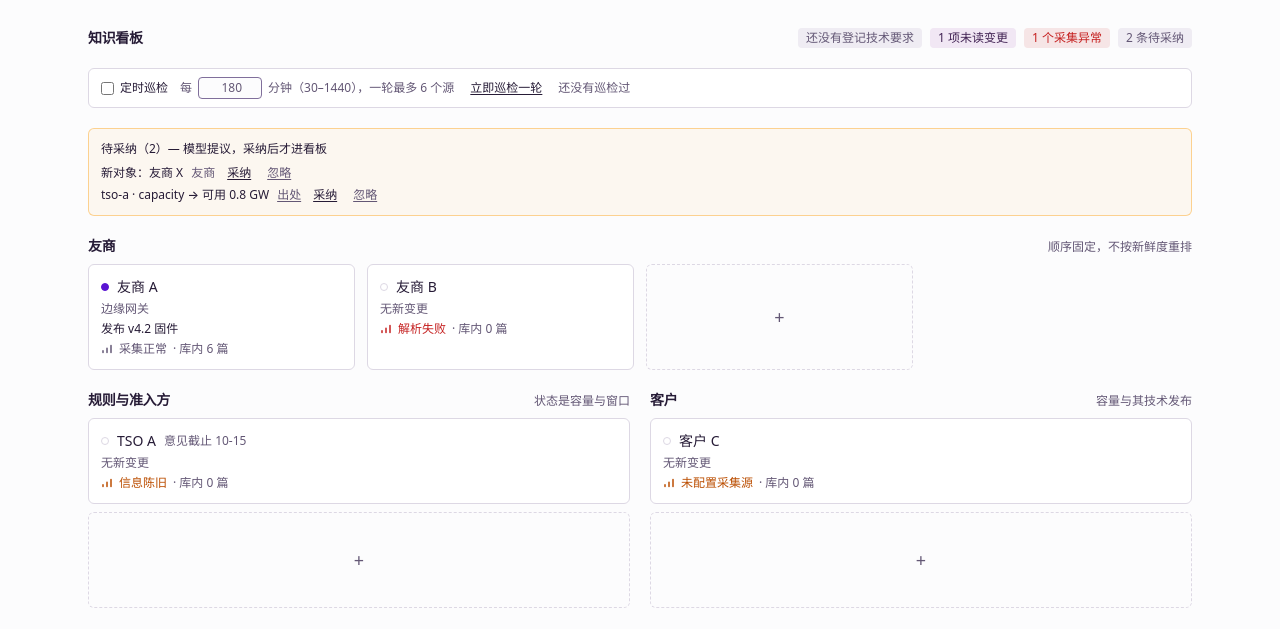
Test: KnowledgeDashboard › ⑤d 消息列表默认 5 条，「查看全部」展开其余且可收回
The image size is (1280, 629).
Check: the text "友商 A" is shown, box 117,277 -> 158,297
Click the button "友商 A 边缘网关 发布 v4.2 固件 采集正常 · 库内 6 篇" at (222, 317), box 101,277 -> 342,357
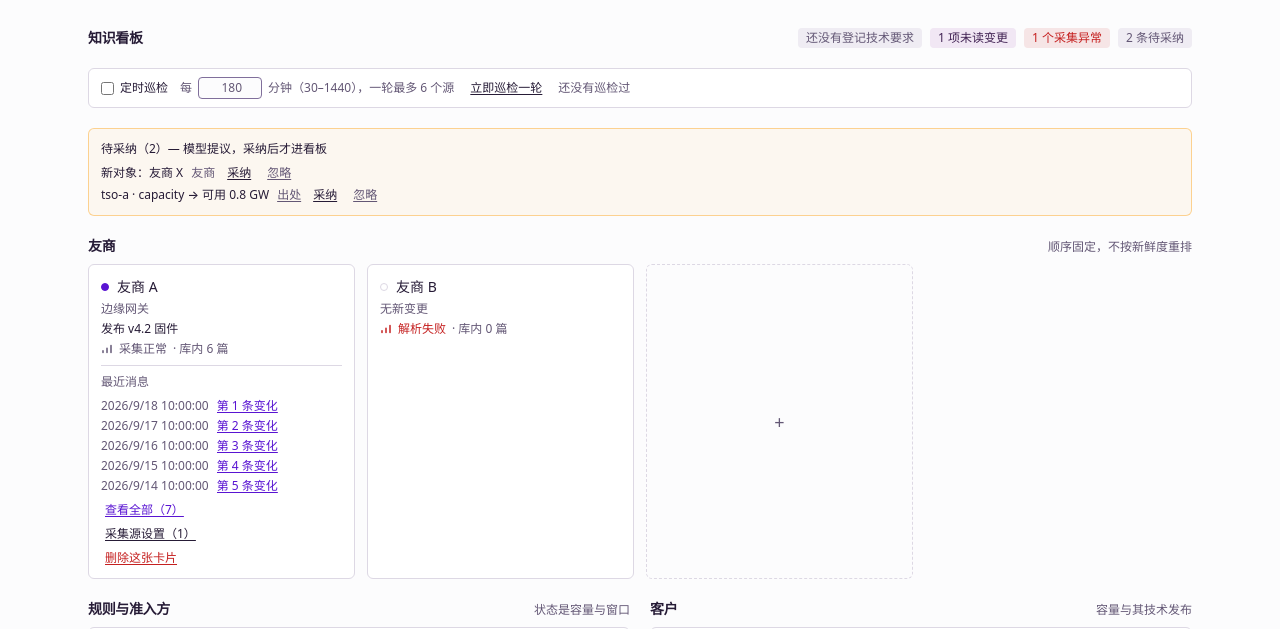
Check: the link "第 6 条变化" is not shown
Check: the link "第 5 条变化" is shown, box 217,477 -> 278,494
Click the button "查看全部（7）" at (144, 510), box 101,502 -> 188,518
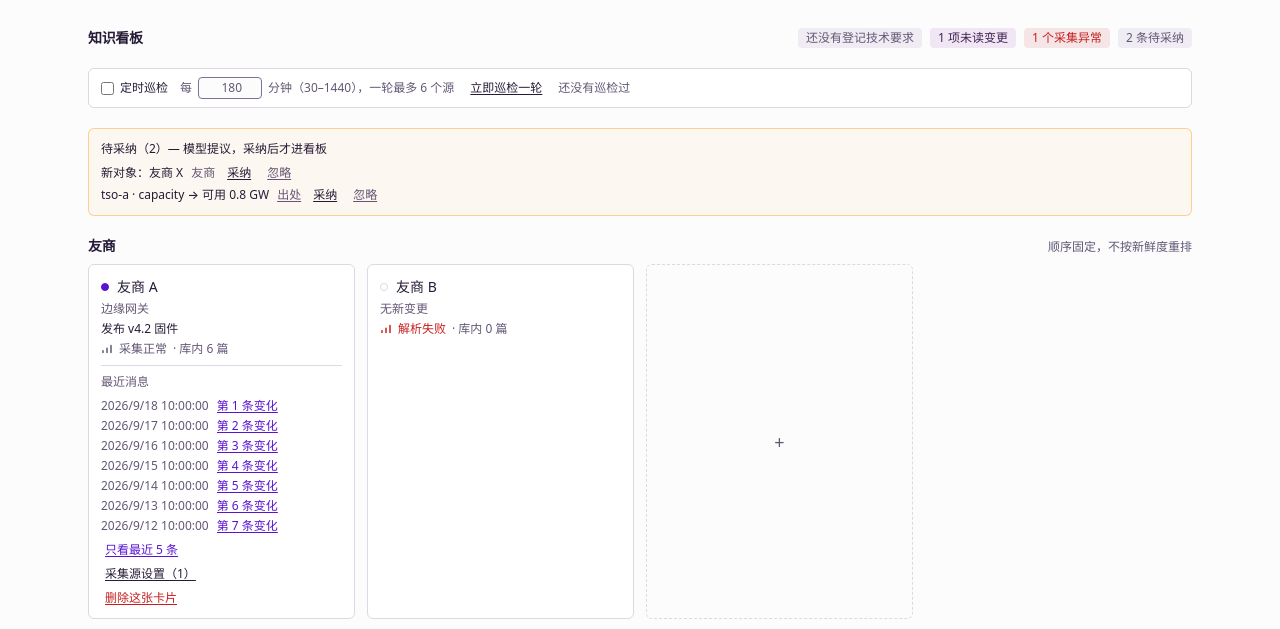
Check: the link "第 7 条变化" is shown, box 217,517 -> 278,534
Check: the button "只看最近 5 条" is expanded
Click the button "只看最近 5 条" at (142, 550), box 101,542 -> 182,558
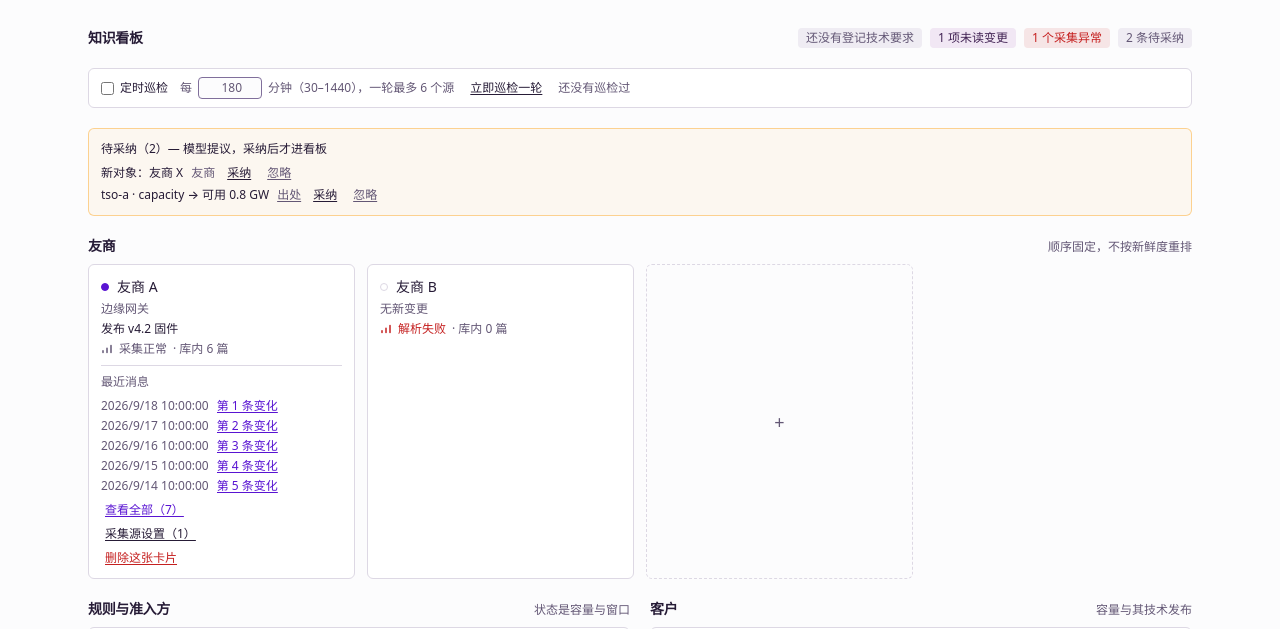
Check: the link "第 6 条变化" is gone
